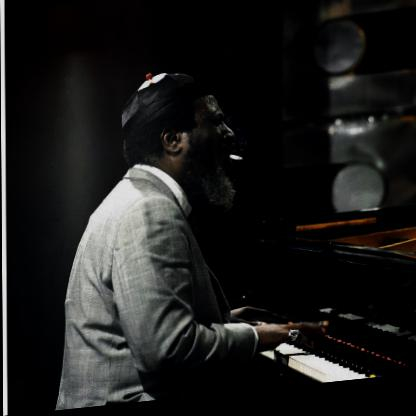smoke: (193, 25, 282, 100)
